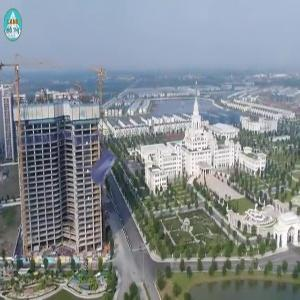drone: (68, 136, 151, 219)
